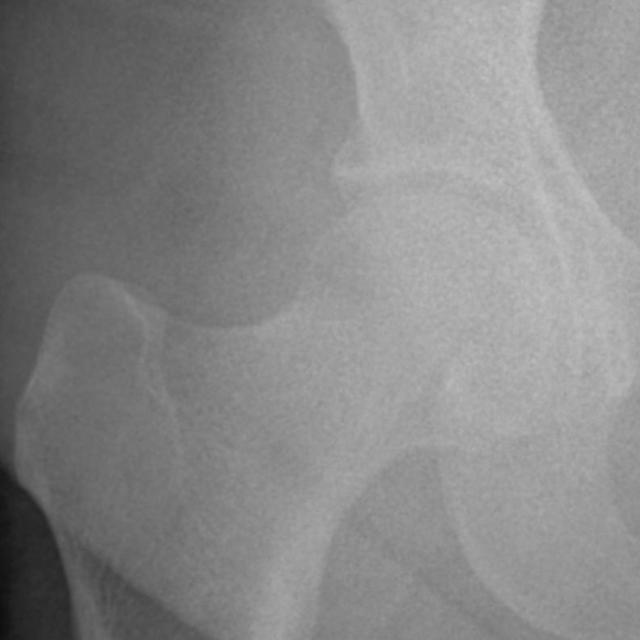Fitted_femural_head: (288, 195, 432, 288)
